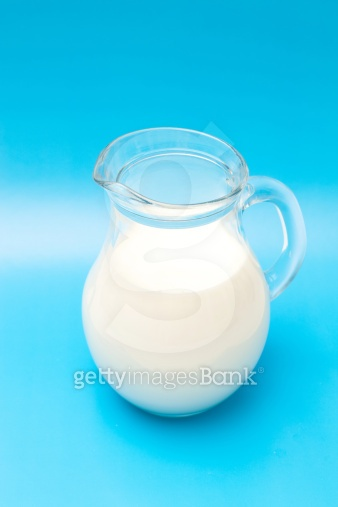glass of milk: (79, 125, 310, 422)
